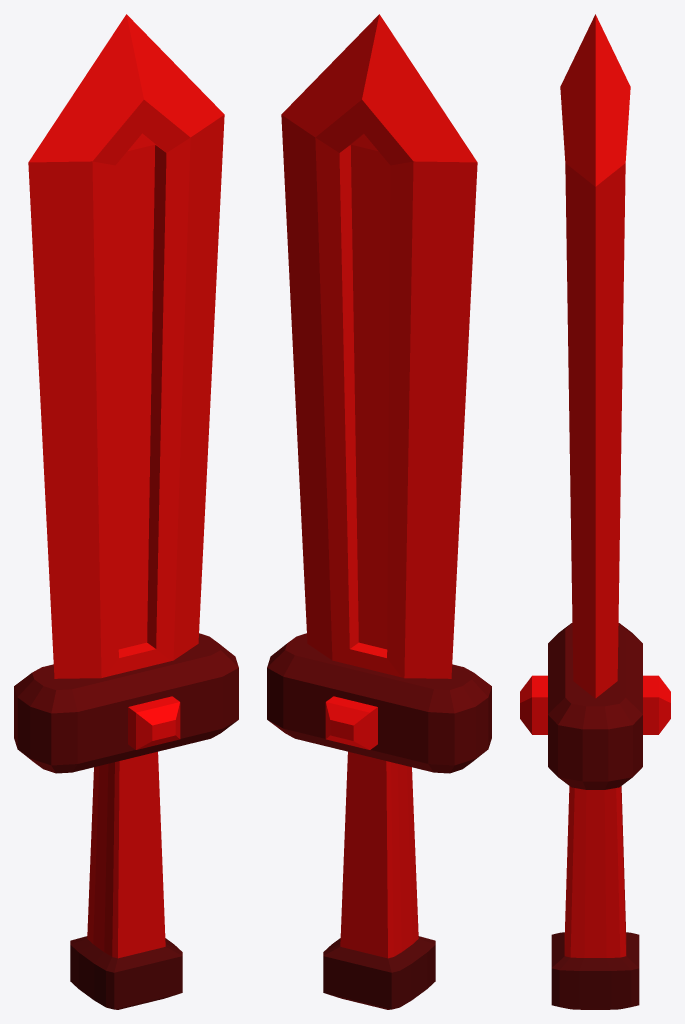
The model's file is Espada.fbx.
The picture shows the model from 3 angles, left to right: view 1: azimuth 30°, elevation 25°; view 2: azimuth 150°, elevation 25°; view 3: azimuth 270°, elevation 25°; orthographic projection.
Visible parts, largest first — view 1: Cube; view 2: Cube; view 3: Cube.
Boxes of the visible parts, bbox=[...] form: Cube: bbox=[14, 14, 238, 1009]; Cube: bbox=[267, 14, 491, 1009]; Cube: bbox=[520, 14, 670, 1009].
Bounding box in the file's own units: 200 × 912 × 127.
